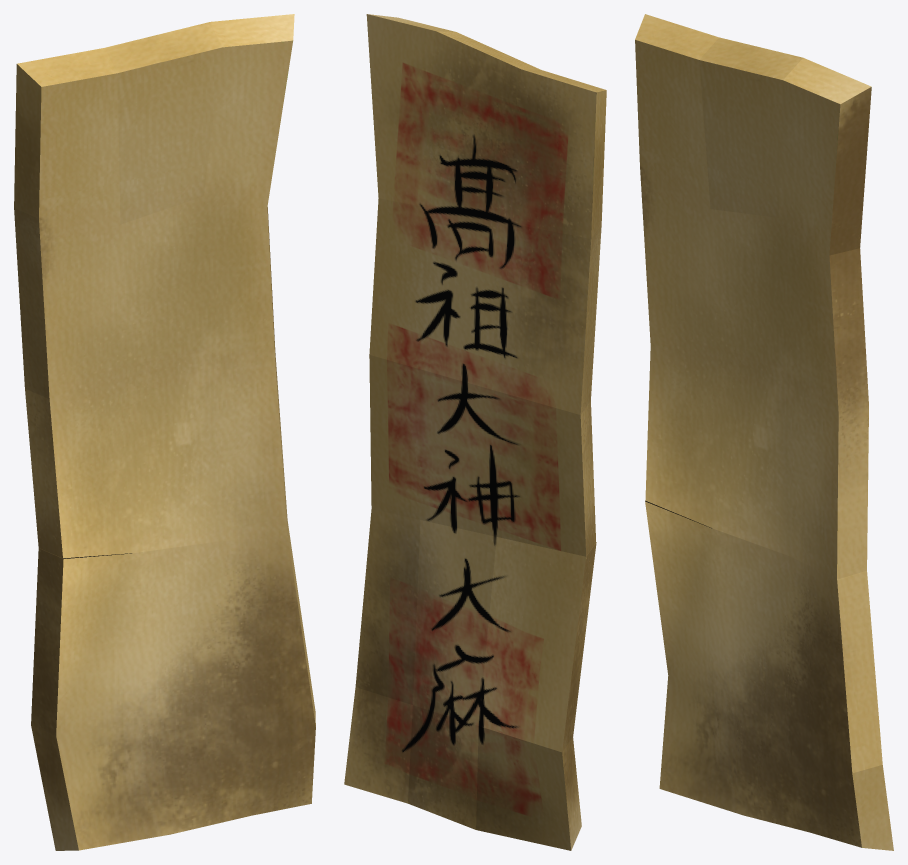
Rendered from Talisman 1.FBX.
The picture shows the model from 3 angles, left to right: view 1: azimuth 30°, elevation 25°; view 2: azimuth 150°, elevation 25°; view 3: azimuth 330°, elevation 25°; orthographic projection. The views are drawn at different scales.
Visible parts, largest first — view 1: Plane001; view 2: Plane001; view 3: Plane001.
Boxes of the visible parts, x1,y1,x2,y2 form: Plane001: (14,14,315,850); Plane001: (344,14,606,850); Plane001: (635,14,893,850).
Bounding box in the file's own units: 4.52 × 12.56 × 1.48.
